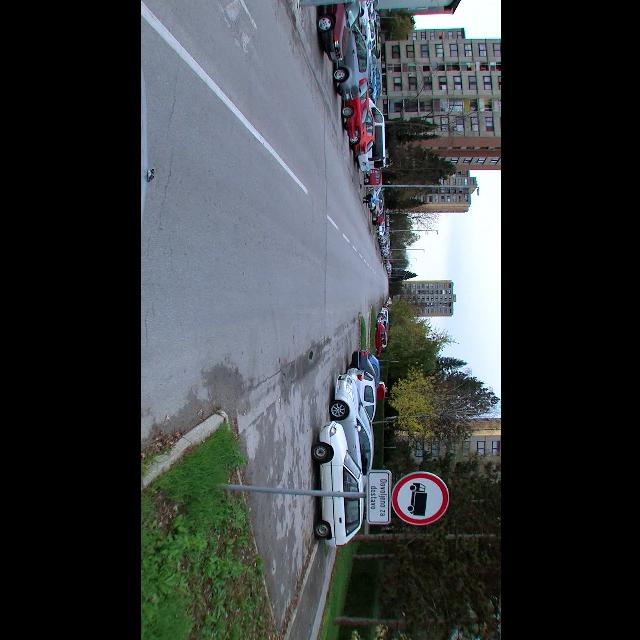Rectangle: (367, 471, 389, 524)
Round: (389, 472, 448, 526)
